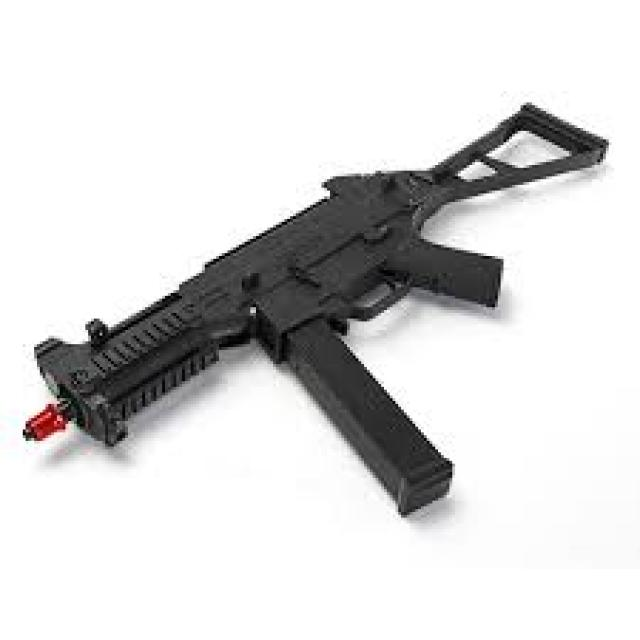Gun: (0, 98, 622, 526)
